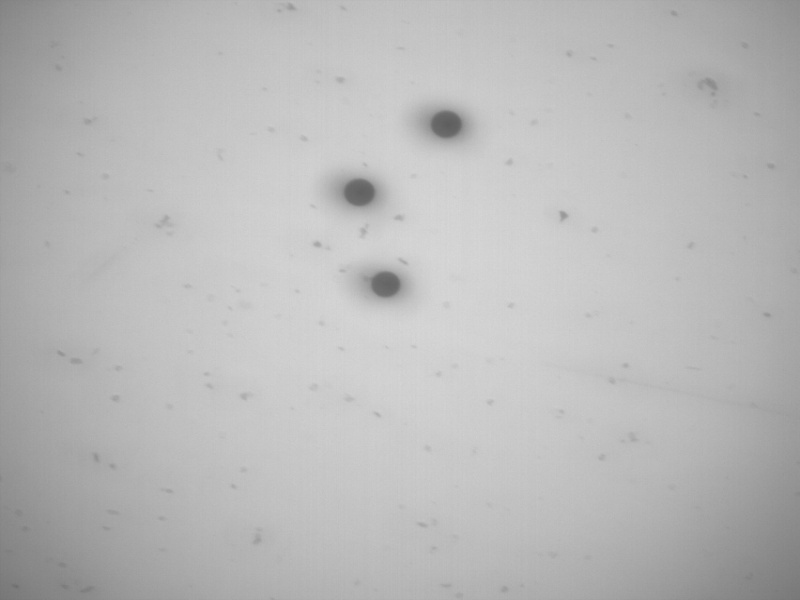bead: (429, 109, 464, 141), (344, 179, 376, 207), (371, 270, 402, 298)
